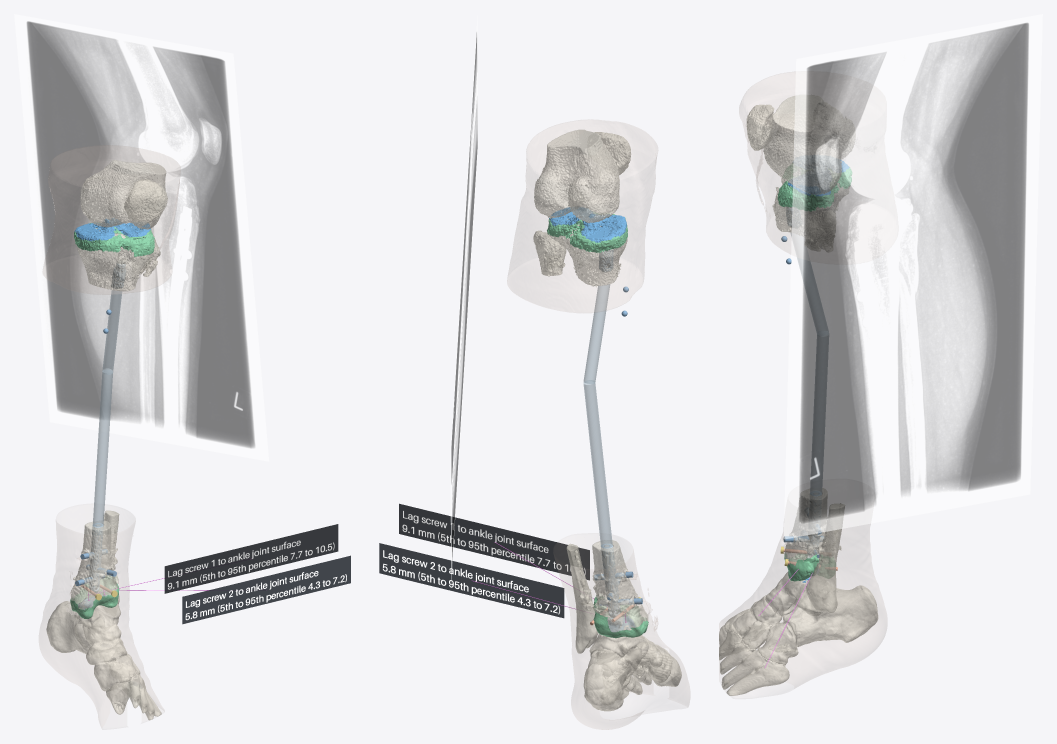
File: 2022-04-22_084651_lat.glb
The picture shows the model from 3 angles, left to right: view 1: azimuth 30°, elevation 25°; view 2: azimuth 150°, elevation 25°; view 3: azimuth 270°, elevation 25°; orthographic projection. The views are drawn at different scales.
Parts seen in each view (by area): view 1: radiograph, skin, tibia, implant_8, implant_16, tarsal, femur, nail_modelled, patella, metatarsal, capsule_band_knee, articular_surface_knee (+3 smaller); view 2: skin, femur, implant_17, implant_9, tibia, tarsal, radiograph, nail_modelled, fibula, articular_surface_knee, capsule_band_knee, nail (+3 smaller); view 3: radiograph, skin, tarsal, femur, fibula, tibia, nail_modelled, metatarsal, capsule_band_knee, patella, capsule_band_ankle, nail.
Boxes of the visible parts, x1=… form: radiograph: x1=14, y1=14, x2=268, y2=461; skin: x1=39, y1=145, x2=180, y2=727; tibia: x1=70, y1=226, x2=152, y2=619; implant_8: x1=164, y1=524, x2=338, y2=593; implant_16: x1=182, y1=555, x2=350, y2=624; tarsal: x1=46, y1=598, x2=140, y2=691; femur: x1=80, y1=160, x2=166, y2=229; nail_modelled: x1=92, y1=290, x2=122, y2=526; patella: x1=124, y1=179, x2=167, y2=226; metatarsal: x1=106, y1=673, x2=161, y2=720; capsule_band_knee: x1=74, y1=223, x2=154, y2=256; articular_surface_knee: x1=74, y1=218, x2=150, y2=241; skin: x1=507, y1=120, x2=689, y2=729; femur: x1=534, y1=129, x2=619, y2=223; implant_17: x1=379, y1=543, x2=564, y2=618; implant_9: x1=399, y1=503, x2=589, y2=580; tibia: x1=547, y1=218, x2=648, y2=637; tarsal: x1=583, y1=617, x2=672, y2=711; radiograph: x1=450, y1=16, x2=478, y2=584; nail_modelled: x1=583, y1=284, x2=612, y2=548; fibula: x1=533, y1=230, x2=598, y2=653; articular_surface_knee: x1=549, y1=207, x2=626, y2=242; capsule_band_knee: x1=547, y1=212, x2=627, y2=252; nail: x1=599, y1=249, x2=620, y2=617; radiograph: x1=783, y1=14, x2=1042, y2=539; skin: x1=719, y1=72, x2=886, y2=688; tarsal: x1=724, y1=571, x2=878, y2=664; femur: x1=763, y1=95, x2=855, y2=194; fibula: x1=804, y1=210, x2=844, y2=612; tibia: x1=772, y1=178, x2=850, y2=581; nail_modelled: x1=790, y1=232, x2=828, y2=495; metatarsal: x1=719, y1=624, x2=789, y2=695; capsule_band_knee: x1=777, y1=163, x2=851, y2=211; patella: x1=746, y1=104, x2=774, y2=150; capsule_band_ankle: x1=784, y1=554, x2=835, y2=581; nail: x1=786, y1=207, x2=821, y2=557.
Size of the model in its own units: 0.2864 by 0.6238 by 0.2642.
15 materials, 3 textured.
